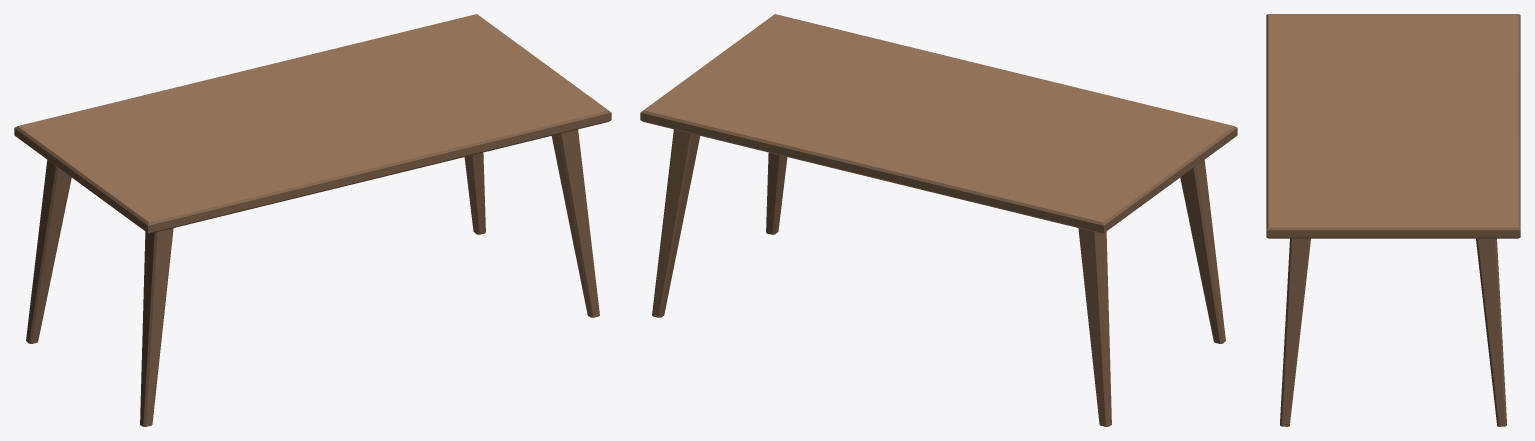
The model's file is Table.glb.
The picture shows the model from 3 angles, left to right: view 1: azimuth 30°, elevation 25°; view 2: azimuth 150°, elevation 25°; view 3: azimuth 270°, elevation 25°; orthographic projection. The views are drawn at different scales.
Parts seen in each view (by area): view 1: Table; view 2: Table; view 3: Table.
Boxes of the visible parts, left/top/right/bottom form: Table: left=14, top=14, right=611, bottom=426; Table: left=640, top=14, right=1237, bottom=426; Table: left=1266, top=14, right=1520, bottom=426.
Size of the model in its own units: 2 by 0.8682 by 1.
Materials: 1 (1 with a texture image).
